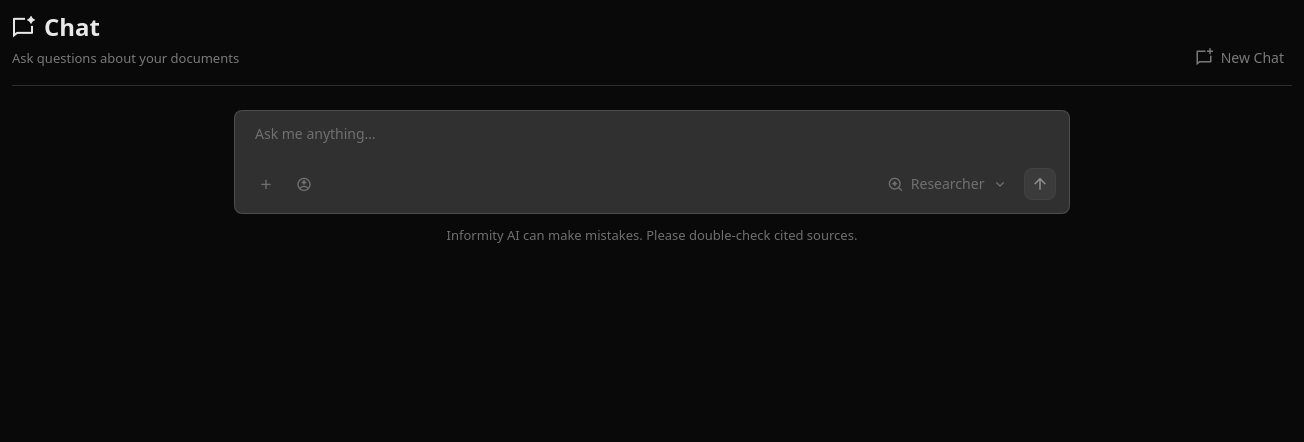
Scenario: ChatView new chat behavior › disables New Chat while a response is streaming
Type "Start streaming answer" into the text box named "Chat message input". click: [652, 162]
box: [234,110,1070,214]
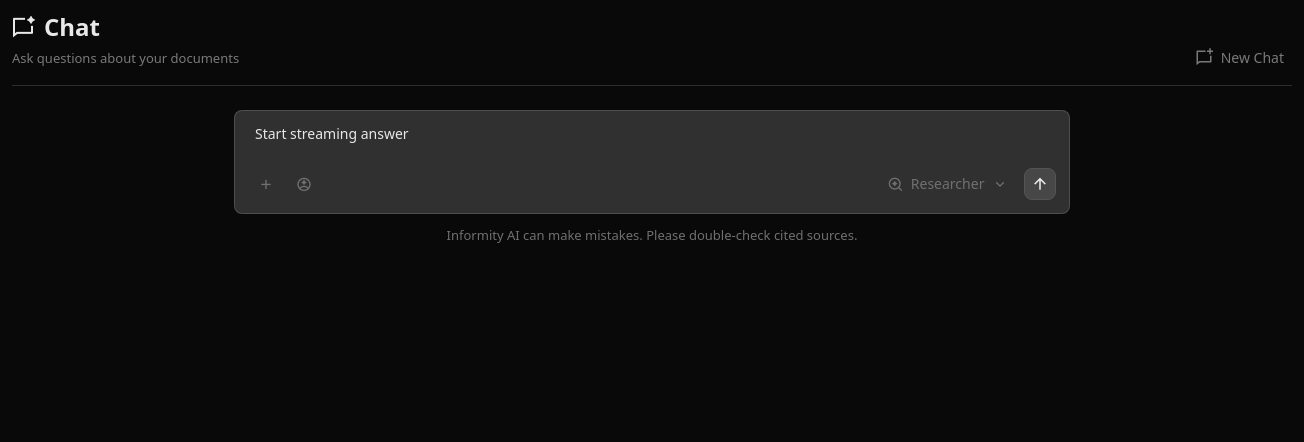
Click the button named "Send message". click: [1040, 184]
box: [1024,168,1056,200]
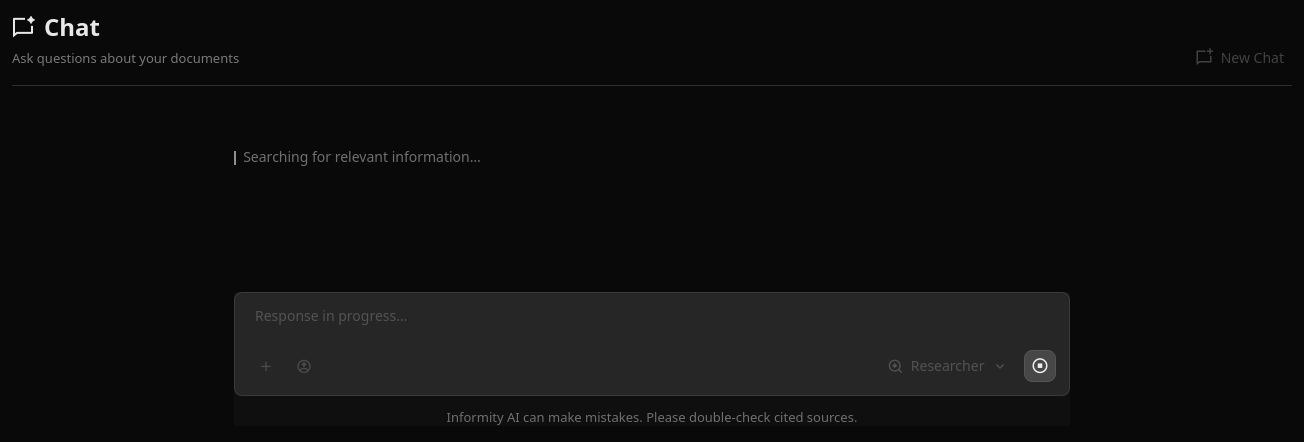
Now the button with aria-label "Start New Chat" is disabled, box [1185,42,1292,72]
